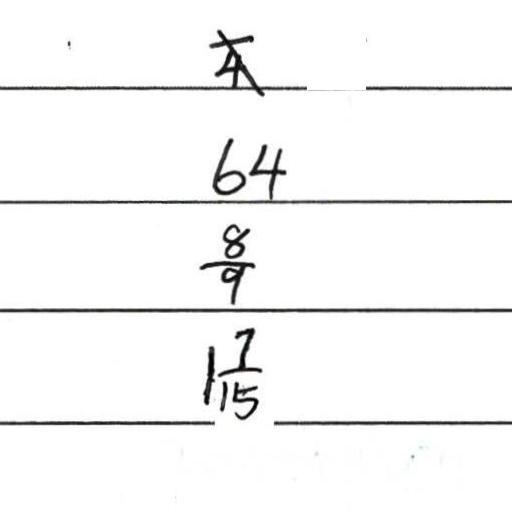ans: (195, 321, 264, 421), (206, 130, 286, 199), (195, 216, 255, 304)
